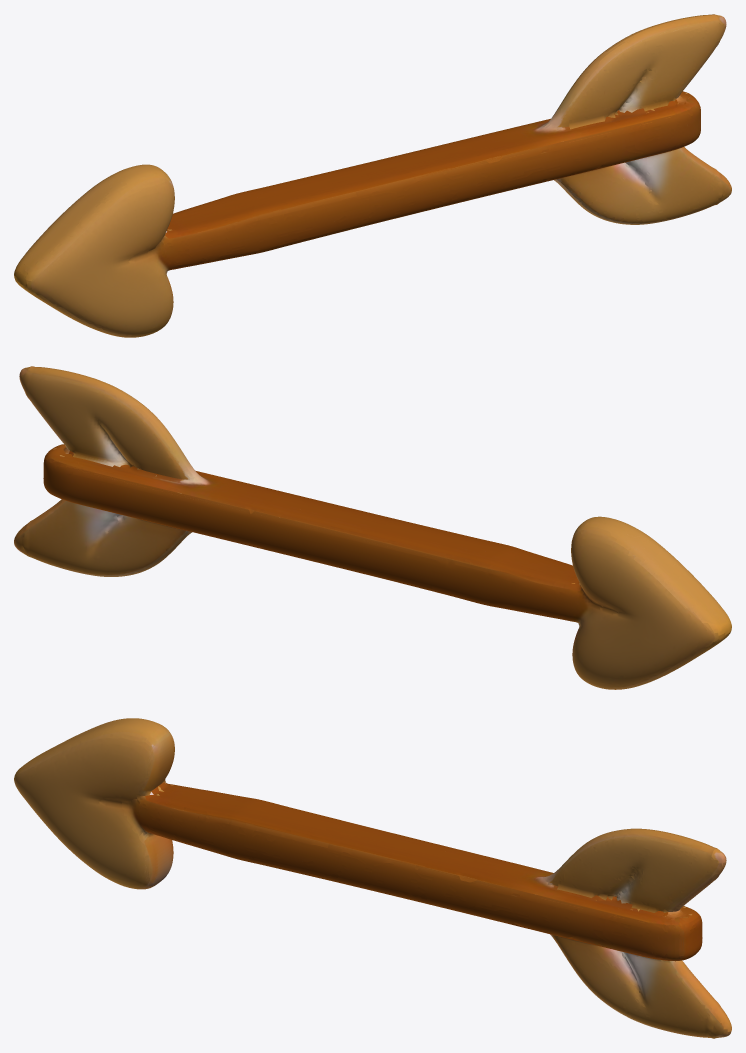
Rendered from arrow.fbx.
3 renders of one model, top to bottom at view 1: azimuth 30°, elevation 25°; view 2: azimuth 150°, elevation 25°; view 3: azimuth 330°, elevation 25°, orthographic.
Parts seen in each view (by area): view 1: node_136b88cb_80ce_40d3_8370_890f9eea6999_mesh0; view 2: node_136b88cb_80ce_40d3_8370_890f9eea6999_mesh0; view 3: node_136b88cb_80ce_40d3_8370_890f9eea6999_mesh0.
Boxes of the visible parts, left/top/right/bottom form: node_136b88cb_80ce_40d3_8370_890f9eea6999_mesh0: left=14, top=14, right=731, bottom=337; node_136b88cb_80ce_40d3_8370_890f9eea6999_mesh0: left=14, top=366, right=731, bottom=689; node_136b88cb_80ce_40d3_8370_890f9eea6999_mesh0: left=14, top=718, right=731, bottom=1038.
Size of the model in its own units: 196 by 51.71 by 15.76.
Materials: 1 (1 with a texture image).
